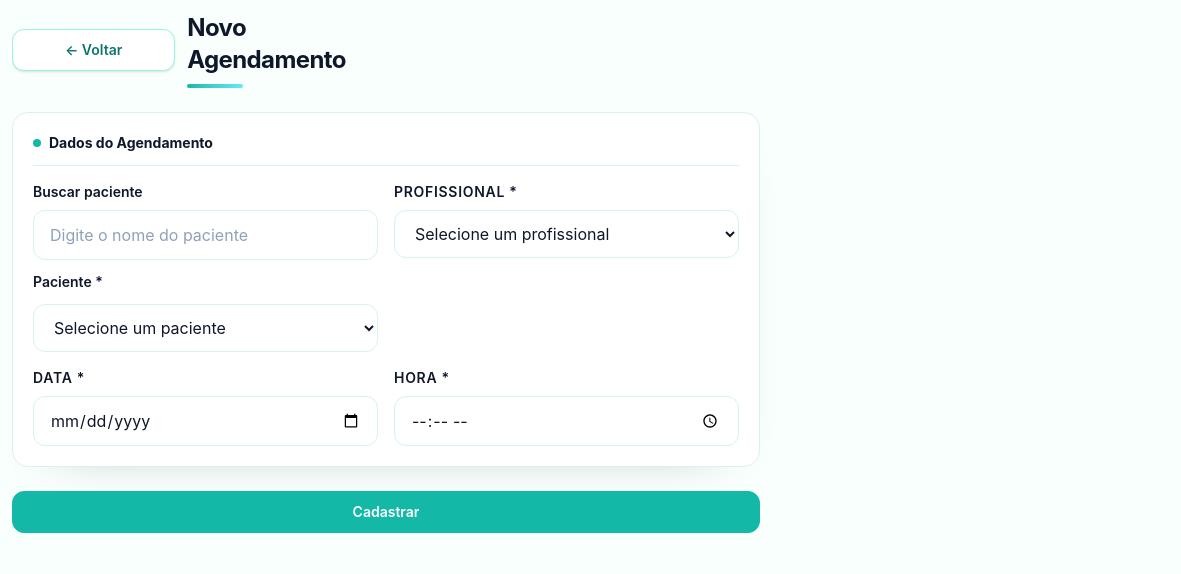
mostra a agenda do profissional e preenche um horário livre
This screenshot has width=1181, height=574.
Step 1. Select "Dra. Ana" in the dropdown labelled "Profissional *" → (566, 234), box [394,210,739,258]
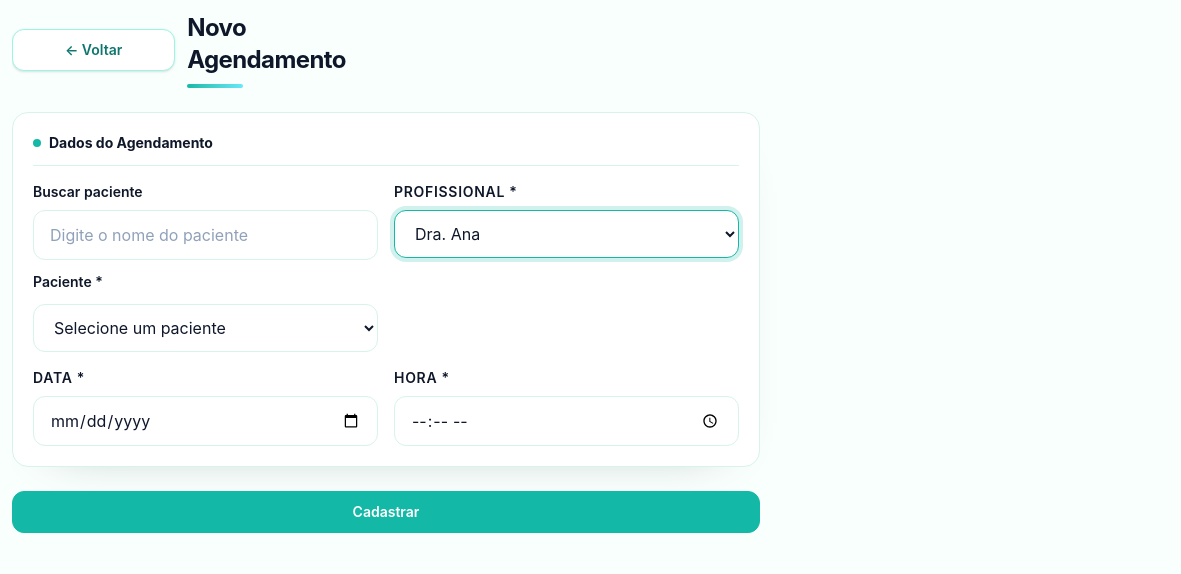
Step 2. Type "2026-09-28" into the date field labelled "Data *" → (206, 421), box [33,396,378,446]
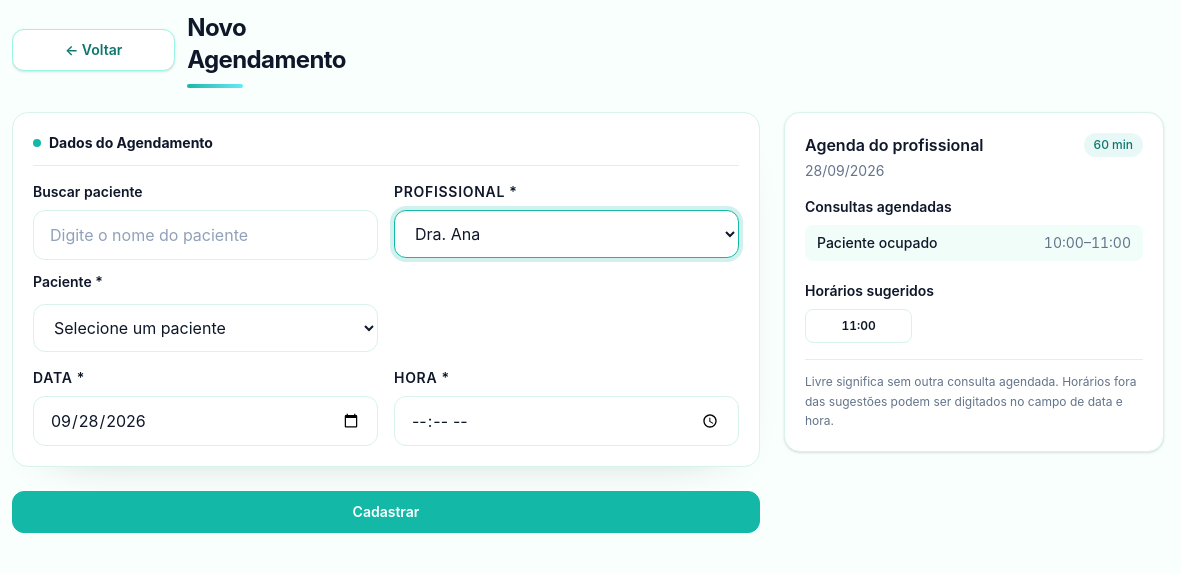
expect the time field labelled "Hora *" is empty: met, box [394,396,739,446]
expect the text "Paciente ocupado" is shown: met, box [817,233,938,253]
Step 3. Click the button named "11:00 livre" → (859, 326), box [805,309,912,343]
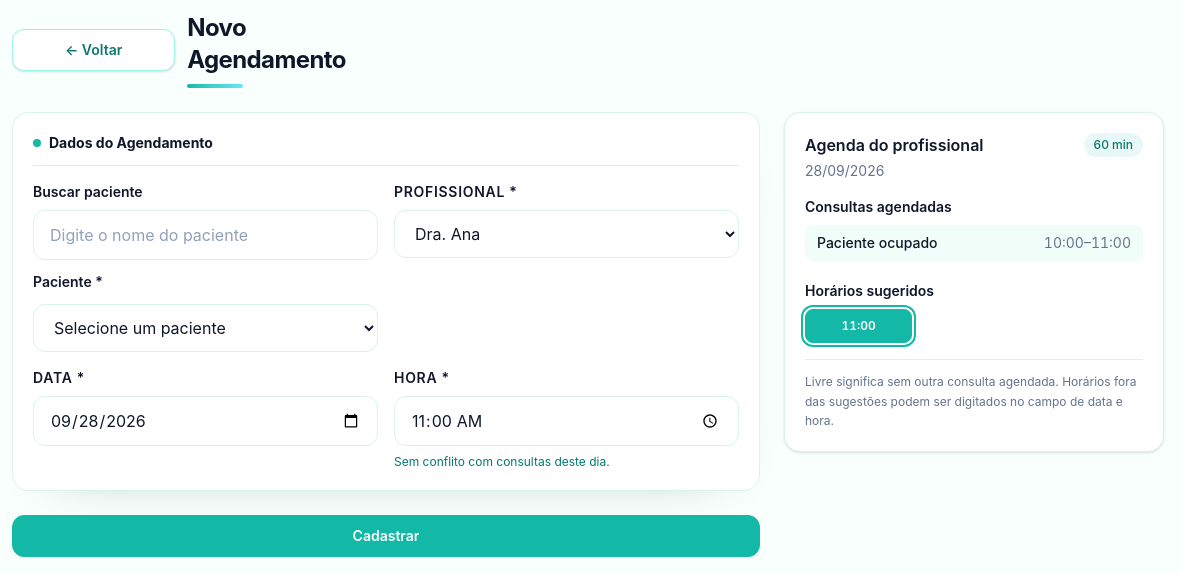
expect the time field labelled "Hora *" holds "11:00": met, box [394,396,739,446]
Step 4. Select "Dr. Bruno" in the dropdown labelled "Profissional *" → (566, 234), box [394,210,739,258]
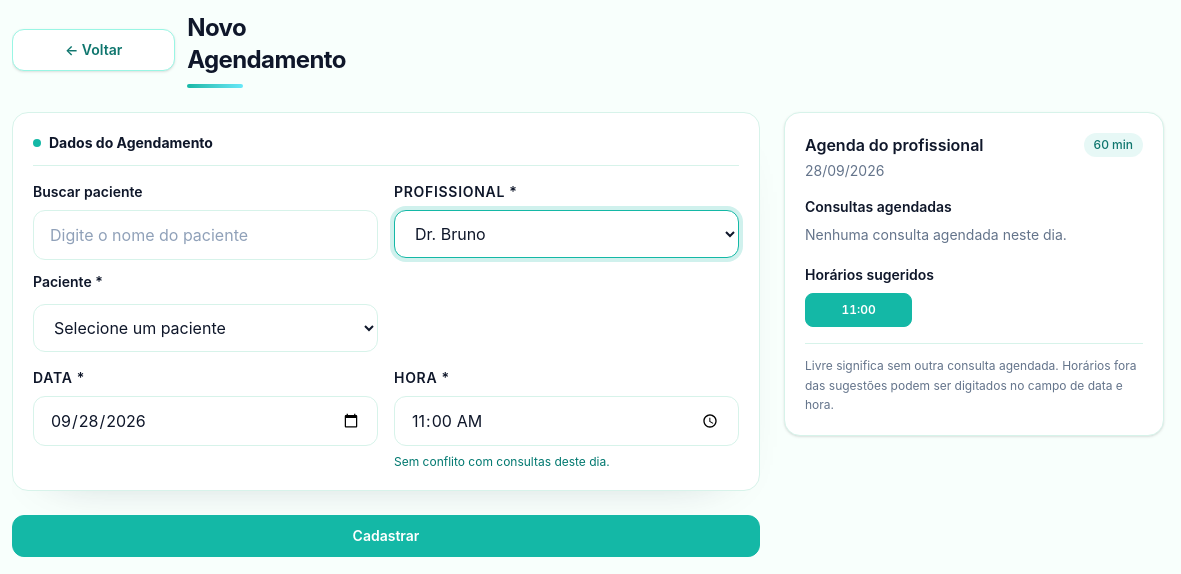
expect the text "Paciente ocupado" is gone: met
